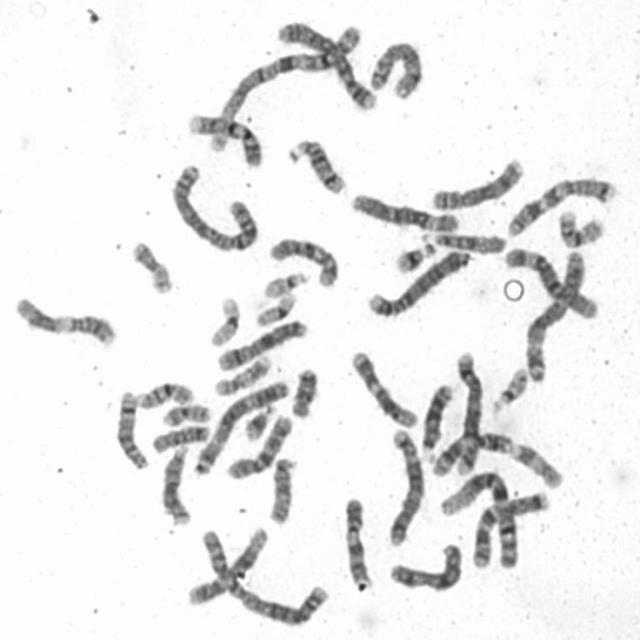A1: (201, 18, 362, 154), (434, 464, 522, 570)
A2: (195, 523, 332, 629), (166, 158, 262, 255)
A3: (189, 374, 293, 477), (522, 246, 590, 384)
B4: (273, 14, 380, 112), (363, 242, 474, 320)
B5: (383, 422, 427, 547), (452, 347, 486, 478)
C10: (222, 409, 296, 482), (266, 232, 342, 290)
C11: (10, 290, 121, 348), (426, 423, 517, 478)
C12: (185, 521, 272, 608), (346, 344, 421, 430)
C6: (499, 241, 601, 320), (347, 187, 463, 234)
C7: (502, 171, 621, 239), (468, 486, 554, 570)
C8: (427, 152, 528, 212), (365, 36, 426, 101)
C9: (181, 106, 265, 170), (340, 492, 376, 592)
D13: (418, 378, 458, 462), (158, 440, 194, 526)
D14: (282, 134, 348, 196), (112, 384, 152, 472)
D15: (417, 226, 508, 256), (265, 450, 299, 526)
E16: (554, 204, 608, 249), (132, 376, 197, 410)
E17: (210, 348, 274, 397), (508, 438, 565, 490)
E18: (148, 419, 212, 455), (286, 362, 321, 419)
F19: (205, 290, 244, 348), (251, 286, 299, 328)
F20: (126, 234, 177, 296), (158, 398, 214, 428)
G21: (238, 398, 278, 443), (390, 240, 429, 275)
G22: (487, 362, 530, 414), (260, 266, 311, 300)
X: (213, 314, 310, 373), (384, 538, 466, 594)
